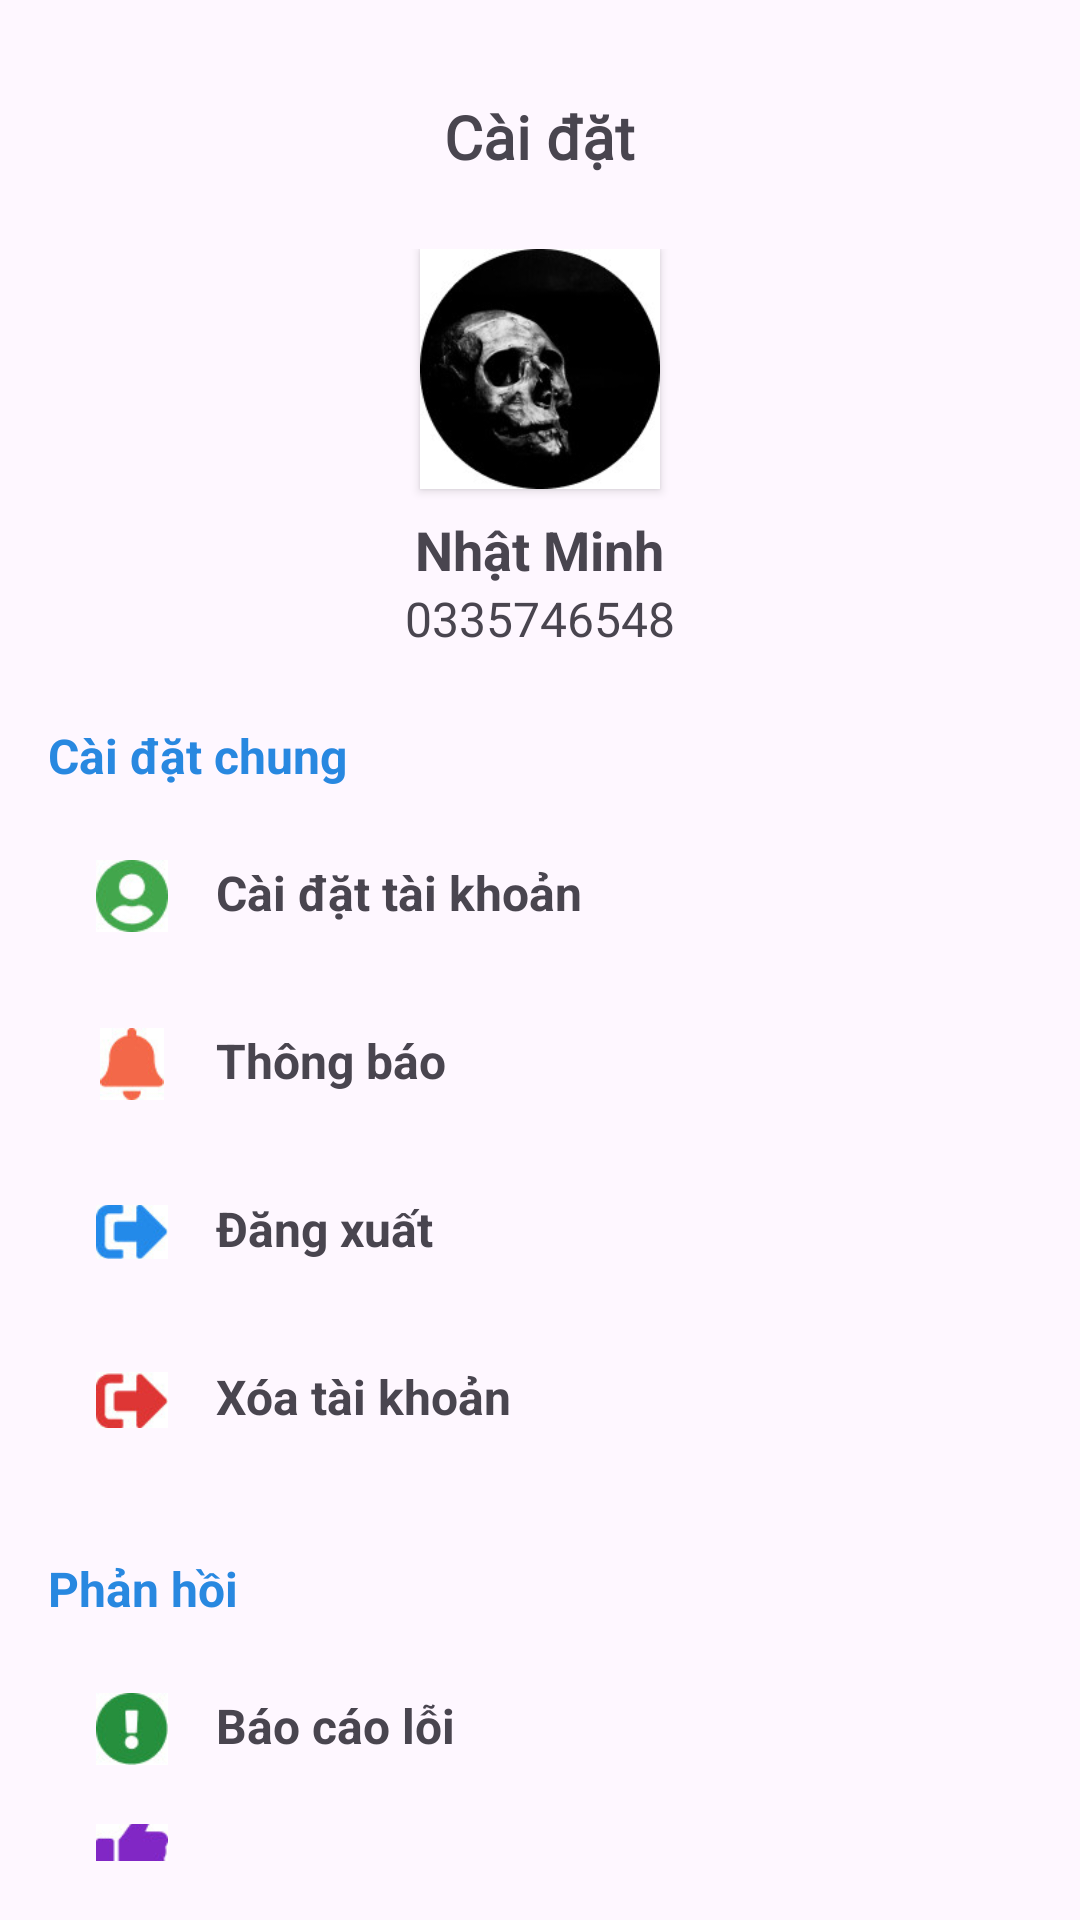

Named icons in this screenshot (1080*1920) and their bounding boxes, (x1, y1, x2, y2):
bao cao loi: (96, 1693, 168, 1765)
dang xuat: (96, 1205, 168, 1259)
Profile Image: (420, 249, 660, 489)
thong bao: (100, 1028, 164, 1100)
